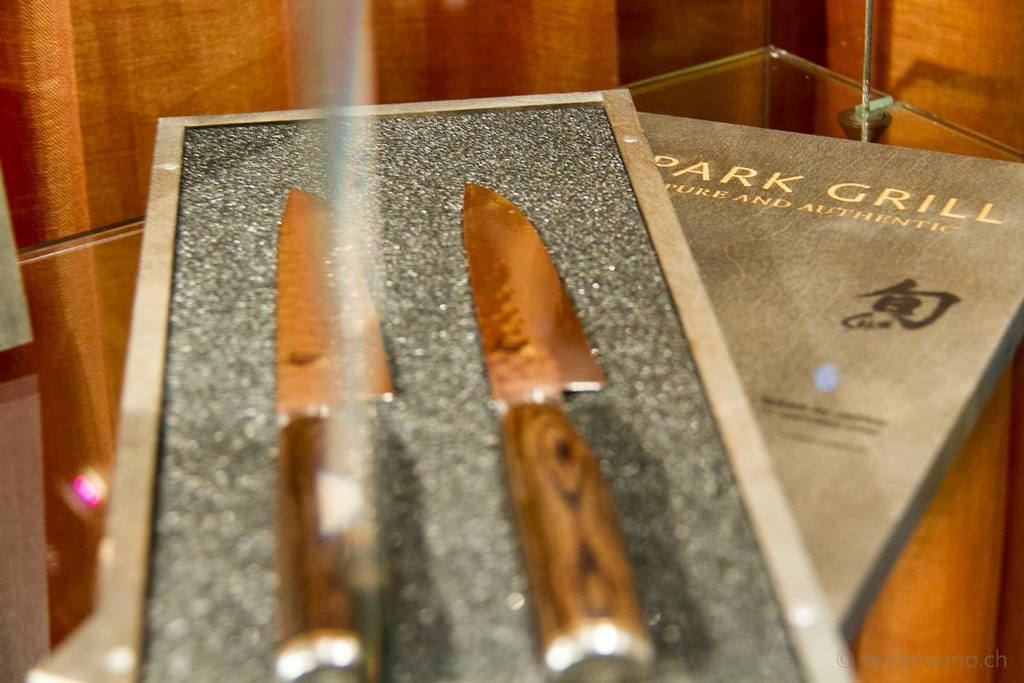kitchen knife: (456, 180, 656, 680), (274, 185, 400, 682)
